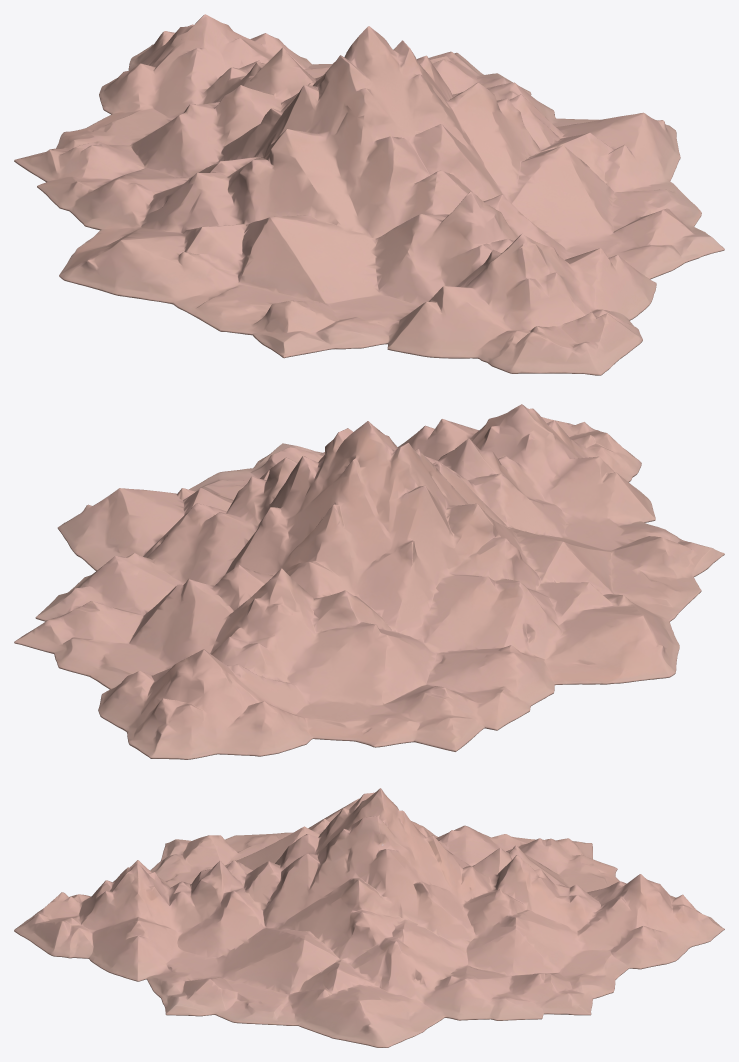
File: mountain+range+3d+model.glb
The picture shows the model from 3 angles, top to bottom: view 1: azimuth 30°, elevation 25°; view 2: azimuth 150°, elevation 25°; view 3: azimuth 270°, elevation 25°; orthographic projection. The views are drawn at different scales.
Parts seen in each view (by area): view 1: tripo_node_e00fdcda-c732-4a17-925b-c48362a2feb5; view 2: tripo_node_e00fdcda-c732-4a17-925b-c48362a2feb5; view 3: tripo_node_e00fdcda-c732-4a17-925b-c48362a2feb5.
Boxes of the visible parts, box(x1,y1,x2,y2) form: tripo_node_e00fdcda-c732-4a17-925b-c48362a2feb5: box(14, 14, 724, 375); tripo_node_e00fdcda-c732-4a17-925b-c48362a2feb5: box(14, 404, 724, 759); tripo_node_e00fdcda-c732-4a17-925b-c48362a2feb5: box(14, 788, 724, 1047).
Size of the model in its own units: 0.7879 by 0.2225 by 1.
1 material, 1 textured.
